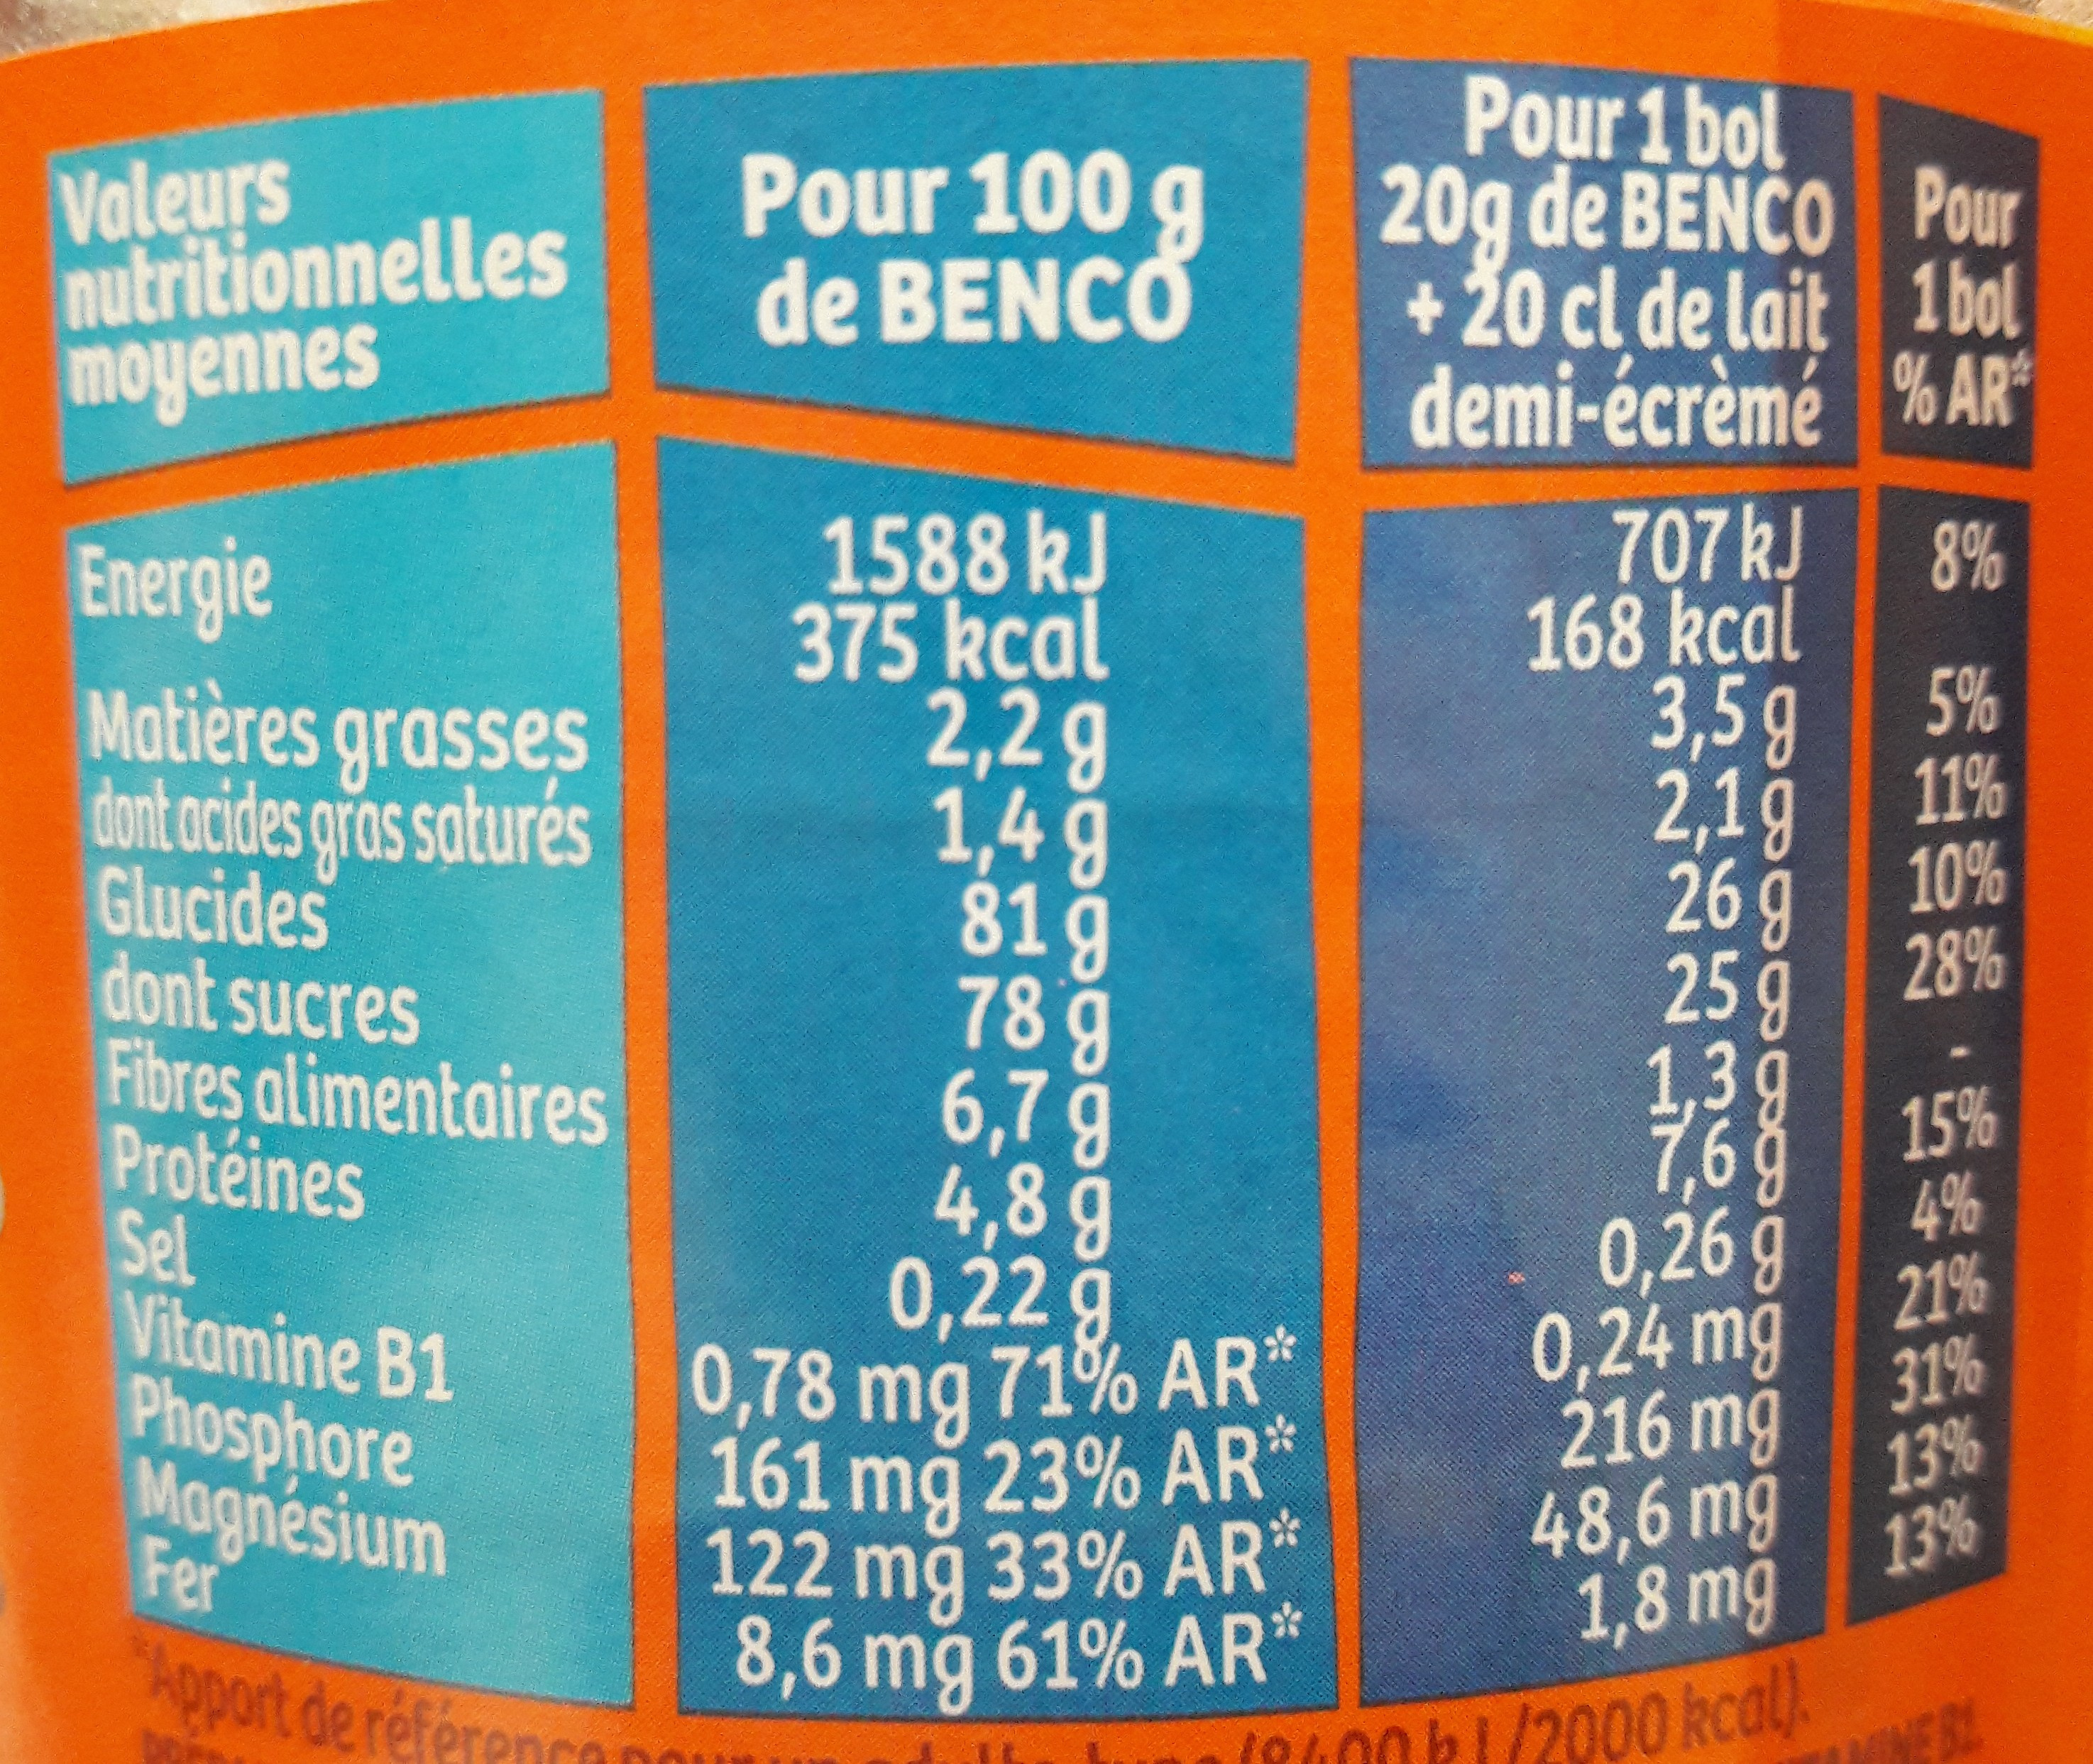column: (646, 77, 1298, 1708), (56, 96, 612, 1656), (1381, 66, 1839, 1666), (1888, 163, 2016, 1587)
table: (32, 56, 2039, 1713)
